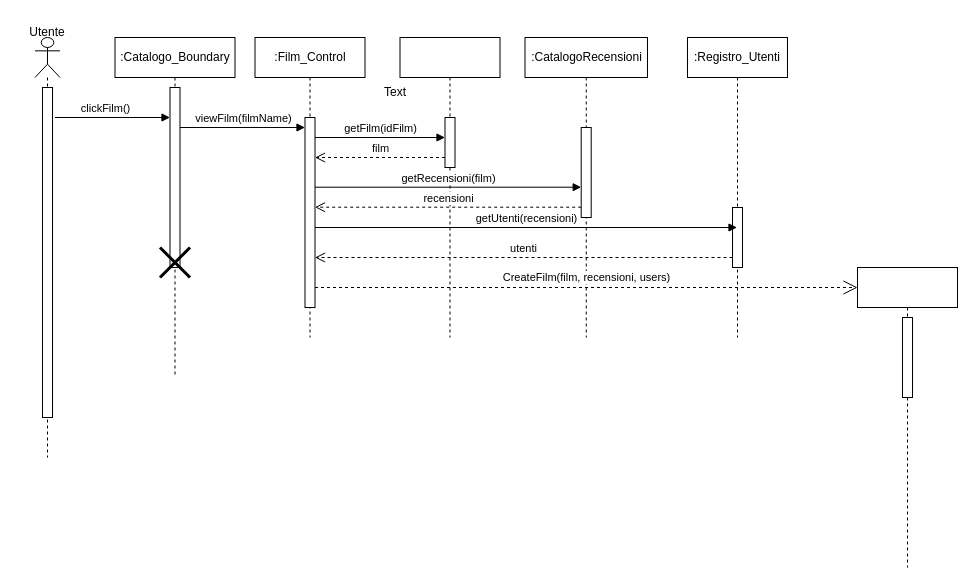
This 975x585 diagram has some shape labels left out. Here are the shapes that lost their labels. From the top down, the centre of each, then its label:
At (449,187): ":Catalogo".
At (907,417): ":Film_Boundary".
